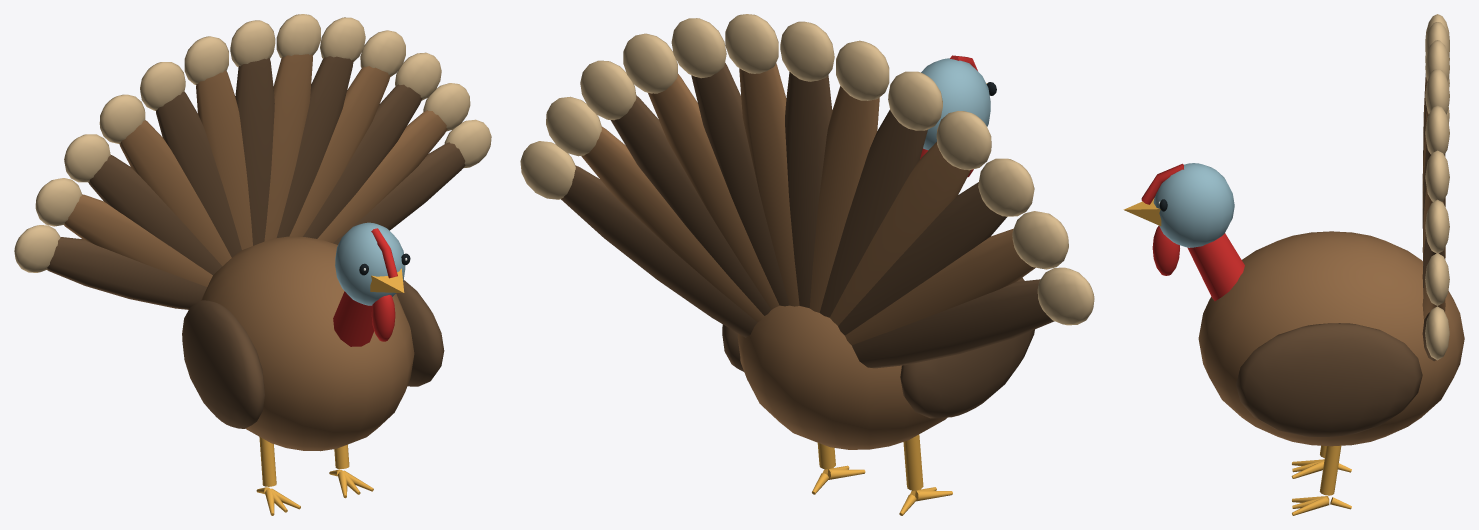
File: bird_turkey.glb
3 views of the same model, side by side, from view 1: azimuth 30°, elevation 25°; view 2: azimuth 150°, elevation 25°; view 3: azimuth 270°, elevation 25° (orthographic). The views are drawn at different scales.
Visible parts, largest first — view 1: Round body, Side wing, Tail fan feather 1, Tail fan feather 6, Tail fan feather 7, Tail fan feather 5, Tail fan feather 8, Tail fan feather 4, Tail fan feather 9, Tail fan feather 3, Tail fan feather 2, Tail fan feather 10 (+22 smaller); view 2: Round body, Tail fan feather 1, Tail fan feather 13, Tail fan feather 8, Tail fan feather 7, Tail fan feather 6, Tail fan feather 5, Tail fan feather 9, Tail fan feather 10, Tail fan feather 4, Tail fan feather 3, Tail fan feather 11 (+18 smaller); view 3: Round body, Side wing.001, Blue head, Red neck, Tail feather light tip.010, Tail feather light tip.012, Tail feather light tip.011, Tail feather light tip.009, Tail feather light tip.008, Red wattle, Tail feather light tip.007, Bird leg.001 (+4 smaller).
Part boxes in pixels (<box>): Round body: <box>201,236,414,451</box>; Side wing: <box>182,300,264,428</box>; Tail fan feather 1: <box>47,237,207,309</box>; Tail fan feather 6: <box>196,70,252,249</box>; Tail fan feather 7: <box>235,58,274,245</box>; Tail fan feather 5: <box>155,92,241,257</box>; Tail fan feather 8: <box>264,54,312,241</box>; Tail fan feather 4: <box>119,120,231,266</box>; Tail fan feather 9: <box>276,56,353,237</box>; Tail fan feather 3: <box>88,155,222,274</box>; Tail fan feather 2: <box>64,194,212,286</box>; Tail fan feather 10: <box>289,66,390,236</box>; Round body: <box>737,305,946,449</box>; Tail fan feather 1: <box>852,279,1054,368</box>; Tail fan feather 13: <box>561,165,757,337</box>; Tail fan feather 8: <box>739,63,799,306</box>; Tail fan feather 7: <box>785,72,832,308</box>; Tail fan feather 6: <box>809,86,879,312</box>; Tail fan feather 5: <box>819,110,927,317</box>; Tail fan feather 9: <box>691,62,789,306</box>; Tail fan feather 10: <box>648,74,779,309</box>; Tail fan feather 4: <box>830,142,970,325</box>; Tail fan feather 3: <box>838,182,1007,335</box>; Tail fan feather 11: <box>610,95,770,315</box>; Round body: <box>1198,231,1464,446</box>; Side wing.001: <box>1236,323,1422,436</box>; Blue head: <box>1153,163,1234,247</box>; Red neck: <box>1187,233,1244,301</box>; Tail feather light tip.010: <box>1425,199,1449,253</box>; Tail feather light tip.012: <box>1425,306,1449,360</box>; Tail feather light tip.011: <box>1425,253,1449,305</box>; Tail feather light tip.009: <box>1425,150,1449,201</box>; Tail feather light tip.008: <box>1425,105,1449,154</box>; Red wattle: <box>1152,225,1179,275</box>; Tail feather light tip.007: <box>1425,69,1449,114</box>; Bird leg.001: <box>1319,445,1341,495</box>.
Size of the model in its own units: 1.24 by 1.08 by 0.744.
